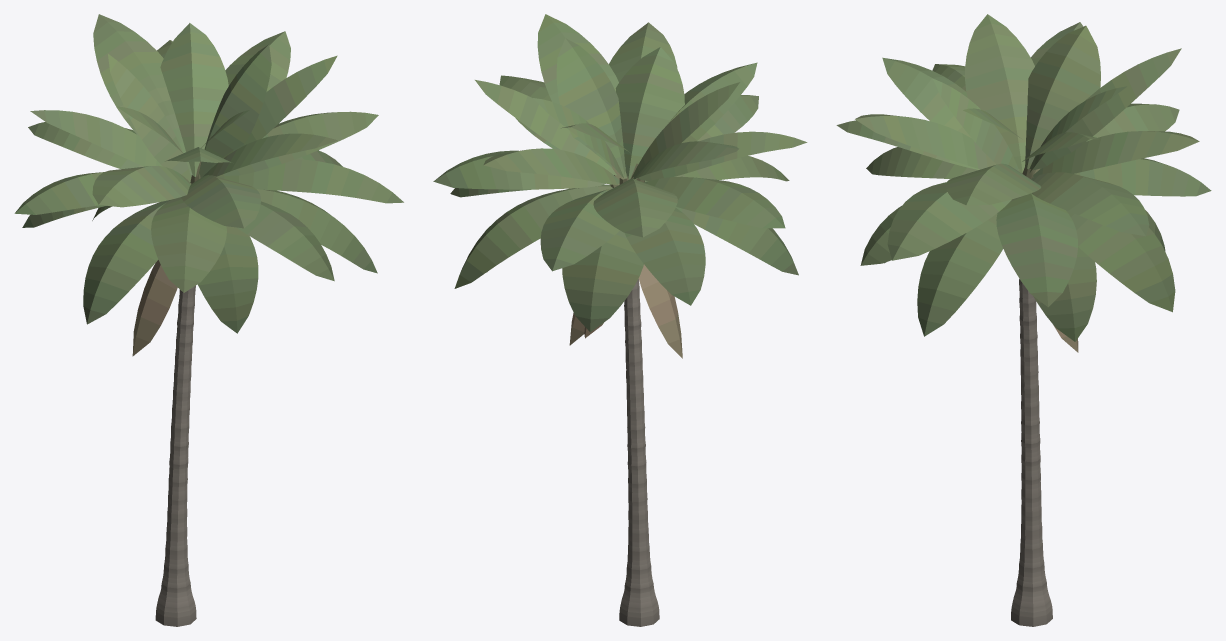
File: palma_erguida.glb
3 renders of one model, left to right at view 1: azimuth 30°, elevation 25°; view 2: azimuth 150°, elevation 25°; view 3: azimuth 270°, elevation 25°, orthographic. The views are drawn at different scales.
Visible parts, largest first — view 1: palma; view 2: palma; view 3: palma.
Part boxes in pixels (box(x1,y1,x2,y2)): palma: box(14, 14, 403, 626); palma: box(433, 14, 807, 626); palma: box(836, 14, 1211, 626).
Bounding box in the file's own units: 7.61 × 12.05 × 7.11.
